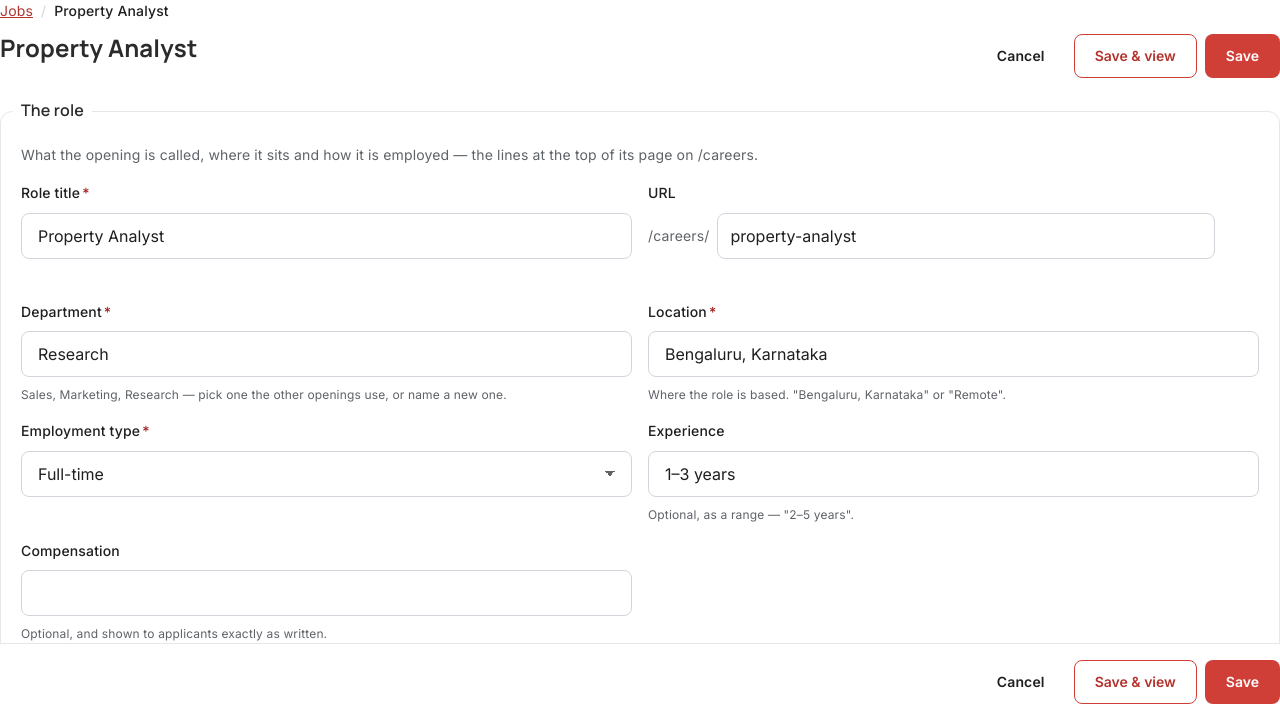
Scenario: JobFormPage — two editors, one opening (prompt 51) › names the version it read, and a save over somebody else’s opens the dialog
Replace the text in the field showing "Property Analyst" with "Senior Property Analyst": (326, 236) [21, 213, 632, 259]
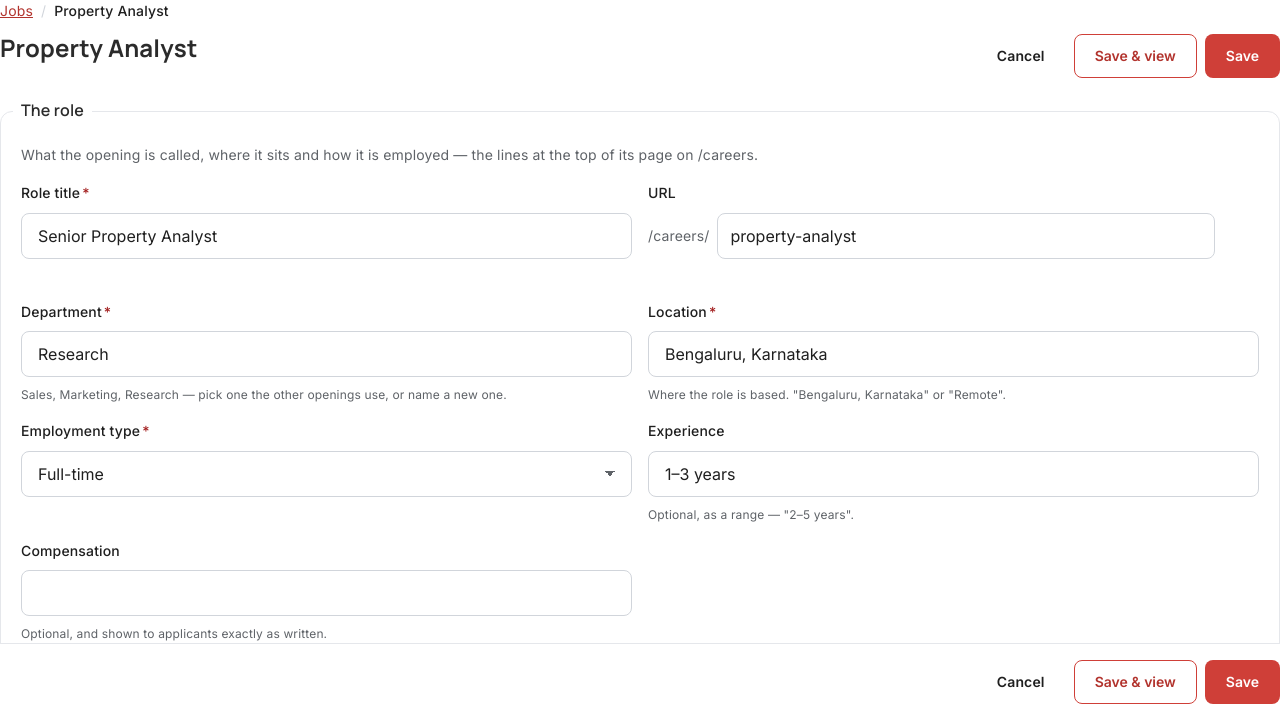
Click the 1st button "Save": (1242, 56) [1205, 34, 1279, 78]
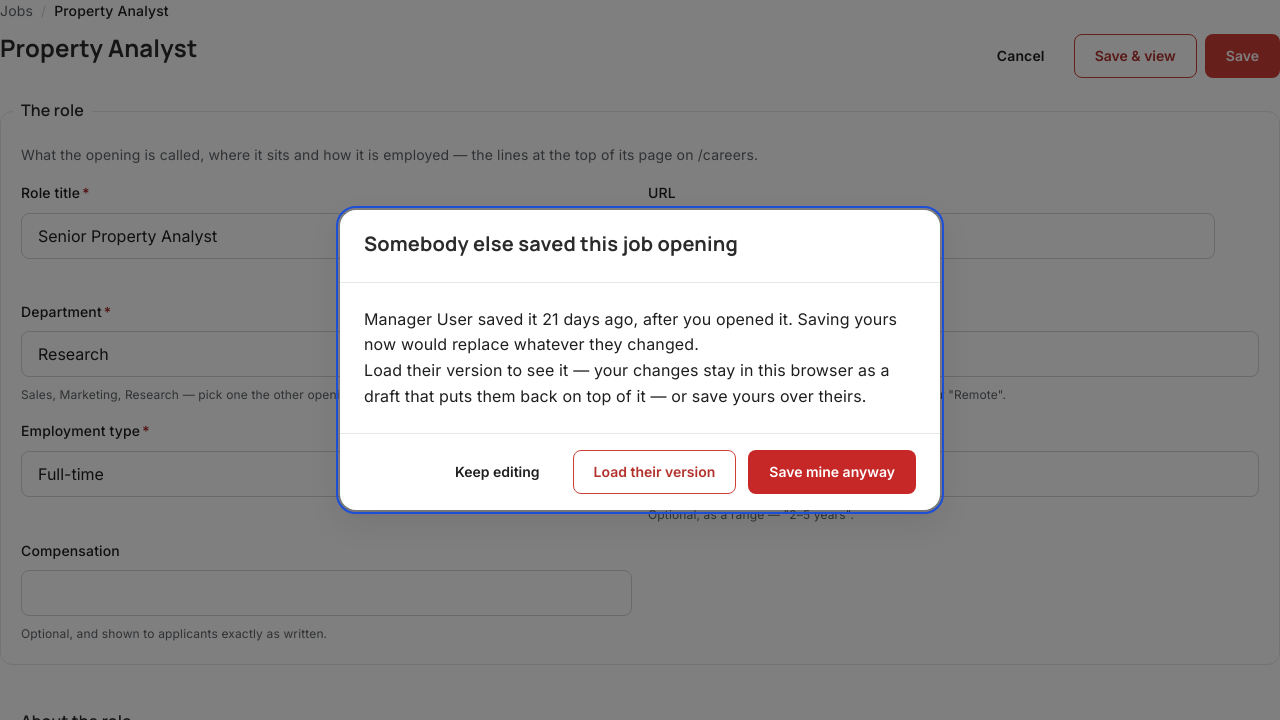
Now the text "Manager User saved it" is shown, box [364, 307, 916, 358]
Click the button "Keep editing": (497, 472) [434, 450, 561, 494]
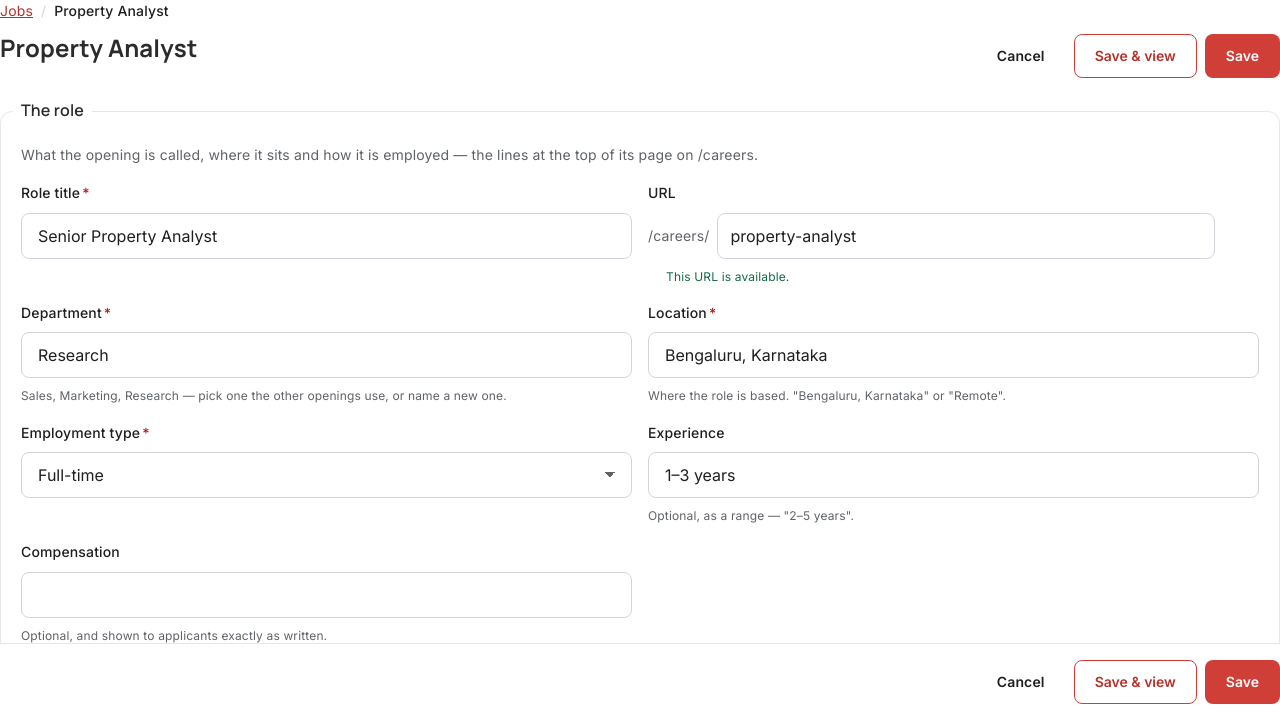
Now the heading "Somebody else saved this job opening" is gone
